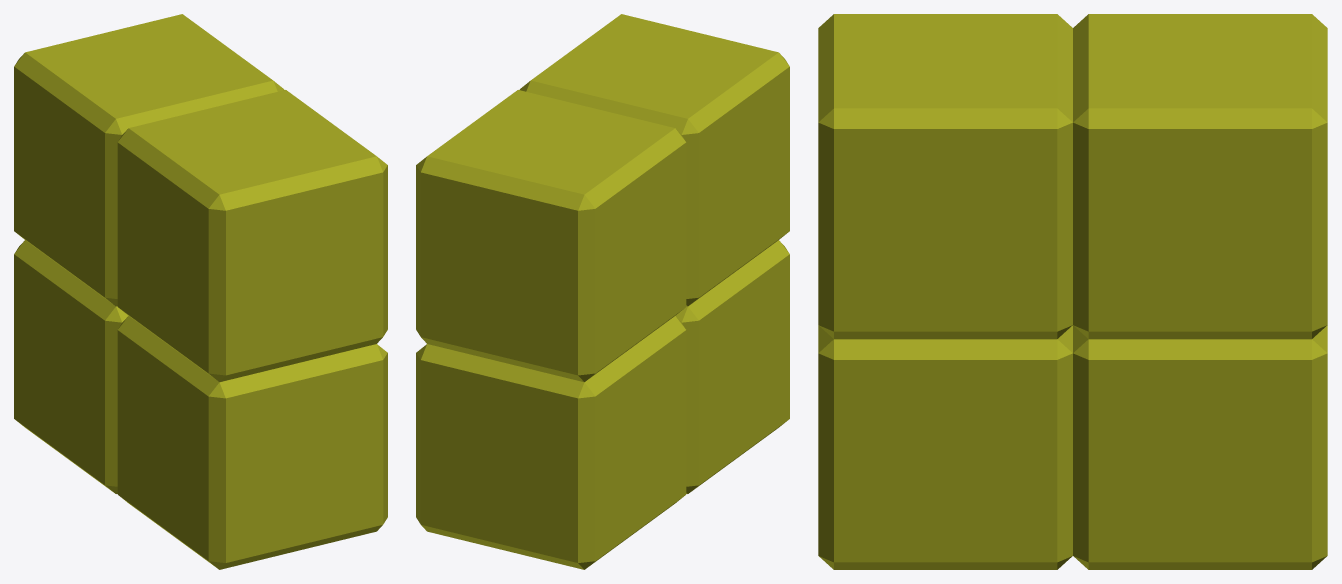
The model's file is TetriminoO.fbx.
3 renders of one model, left to right at view 1: azimuth 30°, elevation 25°; view 2: azimuth 150°, elevation 25°; view 3: azimuth 270°, elevation 25°, orthographic. The views are drawn at different scales.
Visible parts, largest first — view 1: Cube.001, Cube.000, Cube.003, Cube.002; view 2: Cube.003, Cube.002, Cube.001, Cube.000; view 3: Cube.001, Cube.003, Cube.000, Cube.002.
Part boxes in pixels (x1=…): Cube.001: x1=117, y1=90, x2=387, y2=382; Cube.000: x1=117, y1=316, x2=387, y2=569; Cube.003: x1=14, y1=14, x2=284, y2=306; Cube.002: x1=14, y1=240, x2=128, y2=493; Cube.003: x1=416, y1=90, x2=686, y2=382; Cube.002: x1=416, y1=316, x2=686, y2=569; Cube.001: x1=519, y1=14, x2=789, y2=306; Cube.000: x1=675, y1=240, x2=789, y2=493; Cube.001: x1=818, y1=14, x2=1072, y2=339; Cube.003: x1=1073, y1=14, x2=1327, y2=339; Cube.000: x1=818, y1=325, x2=1072, y2=569; Cube.002: x1=1073, y1=325, x2=1327, y2=569.
Bounding box in the file's own units: 200 × 400 × 400.
